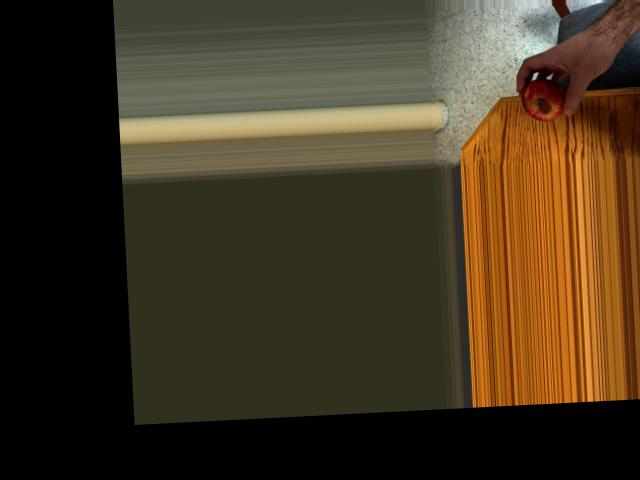apple: (518, 76, 572, 122)
